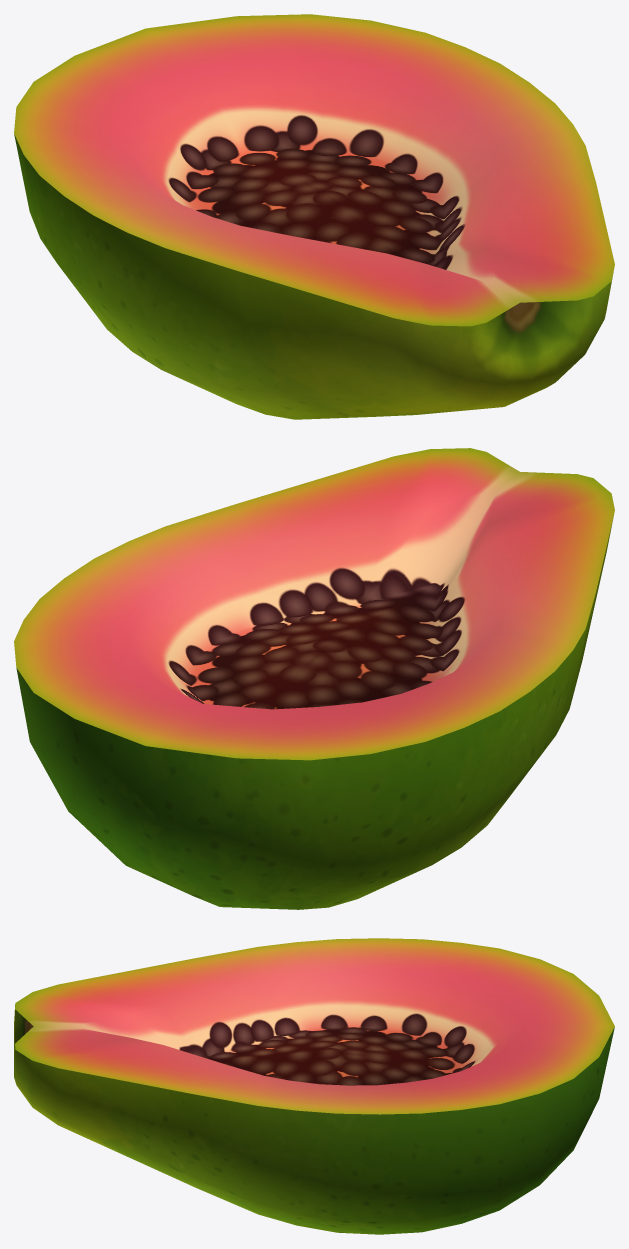
Rendered from Papaya_Green_Half.fbx.
The picture shows the model from 3 angles, top to bottom: view 1: azimuth 30°, elevation 25°; view 2: azimuth 150°, elevation 25°; view 3: azimuth 270°, elevation 25°; orthographic projection. The views are drawn at different scales.
Visible parts, largest first — view 1: Papaya_Green_Half; view 2: Papaya_Green_Half; view 3: Papaya_Green_Half.
Boxes of the visible parts, x1,y1,x2,y2 form: Papaya_Green_Half: [14, 14, 614, 419]; Papaya_Green_Half: [14, 448, 614, 909]; Papaya_Green_Half: [14, 938, 614, 1234].
Size of the model in its own units: 37.94 by 18.97 by 54.68.
